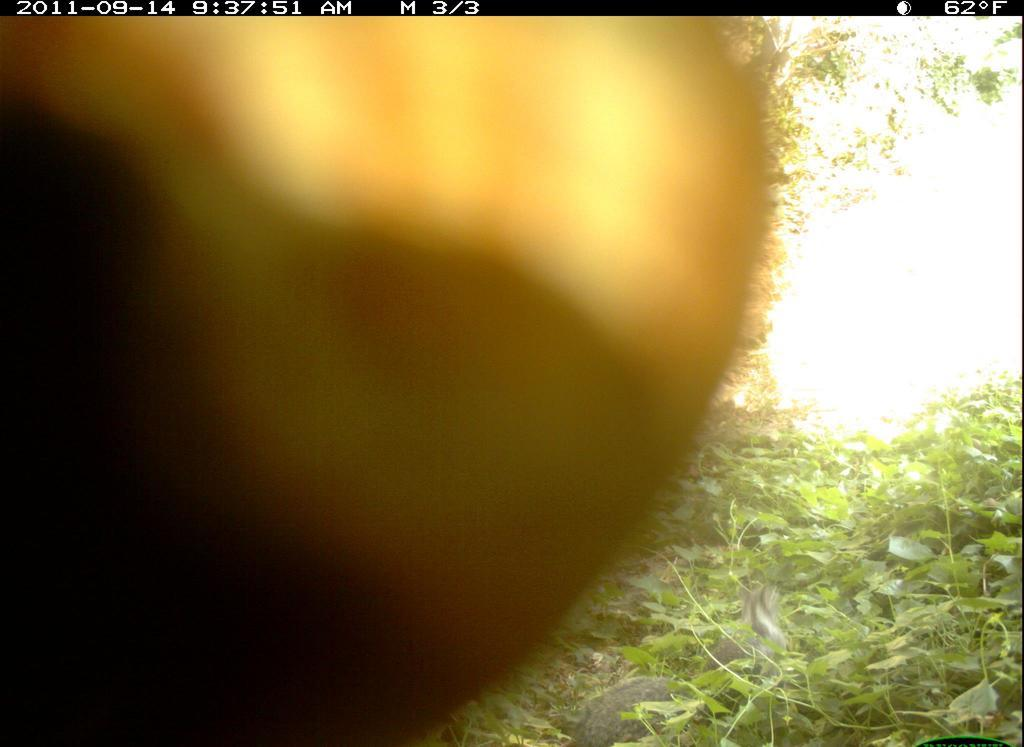squirrel: (564, 579, 798, 747)
